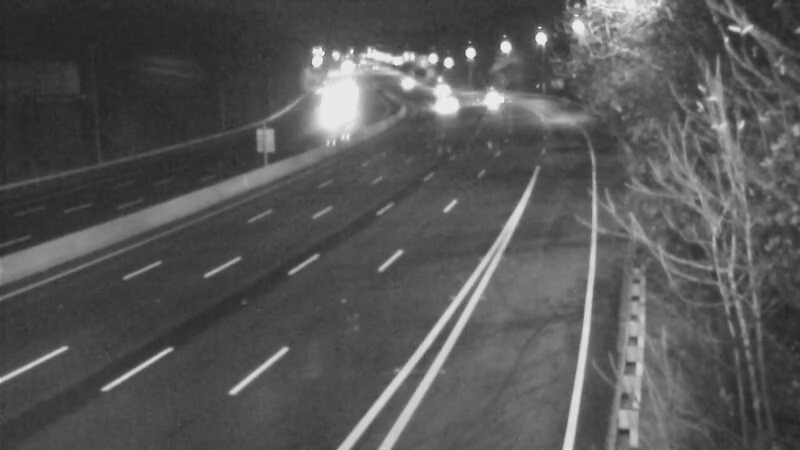vehicle: (382, 58, 432, 108), (411, 66, 461, 116), (473, 72, 523, 122), (421, 80, 471, 130), (304, 86, 354, 136)
